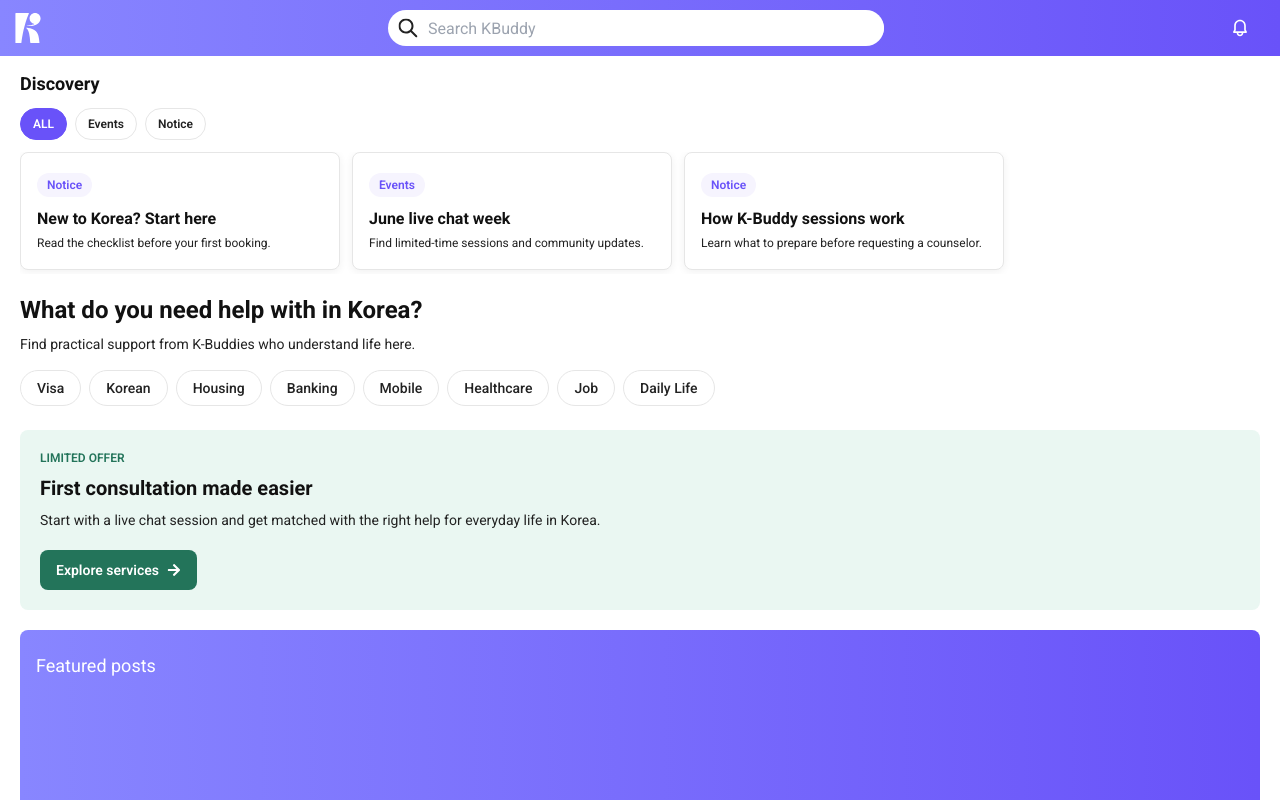
Test: shows discovery carousel cards and filters them by type
Expected: the text "New to Korea? Start here" is shown, [37,208,216,228]
Expected: the text "June live chat week" is shown, [369,208,510,228]
Click the button "Notice" at x=176, y=124, box [145,108,206,140]
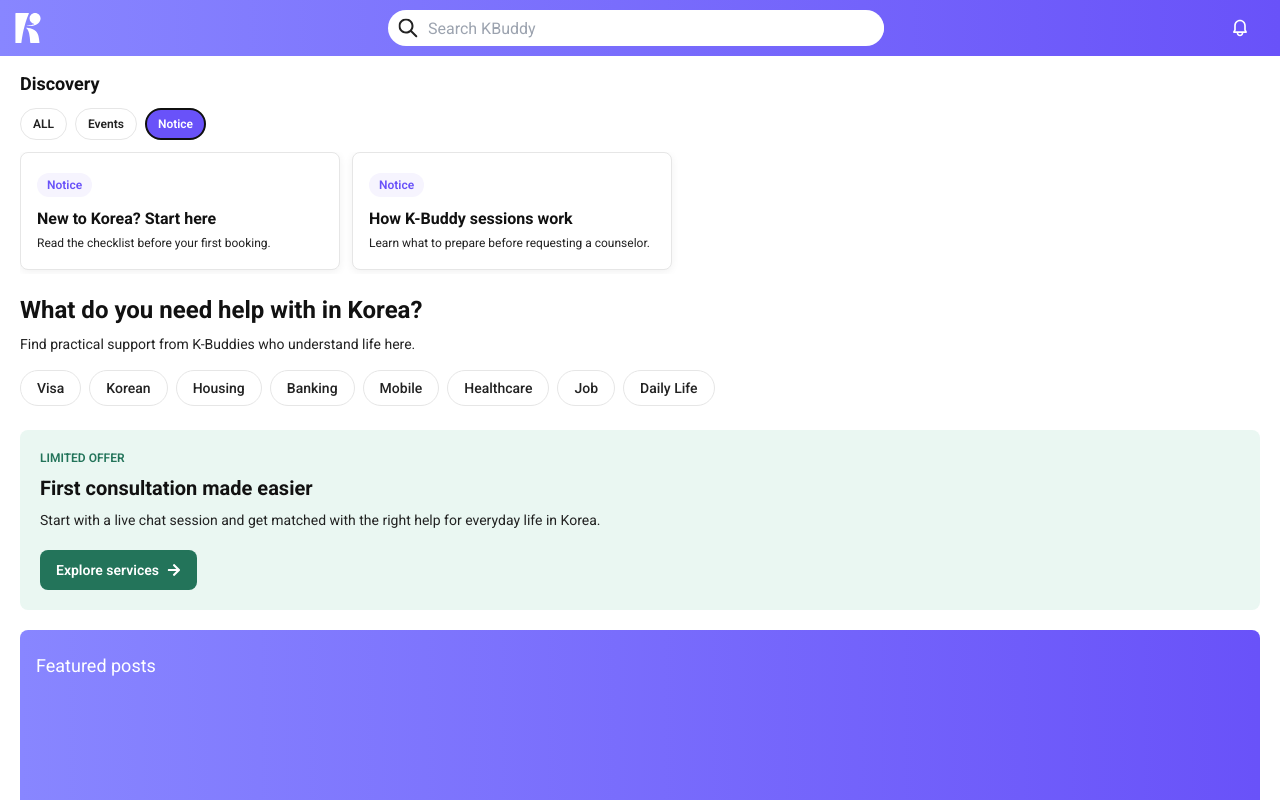
Expected: the text "New to Korea? Start here" is shown, [37,208,216,228]
Result: the button "June live chat week" is gone
